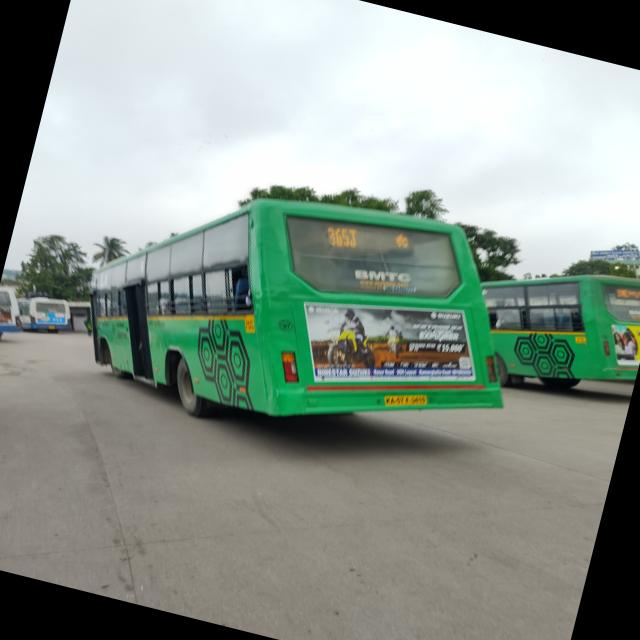bus: (50, 133, 548, 488), (461, 236, 640, 412)
display: (311, 209, 420, 269), (603, 274, 640, 306)
dnumber: (321, 217, 366, 254)
